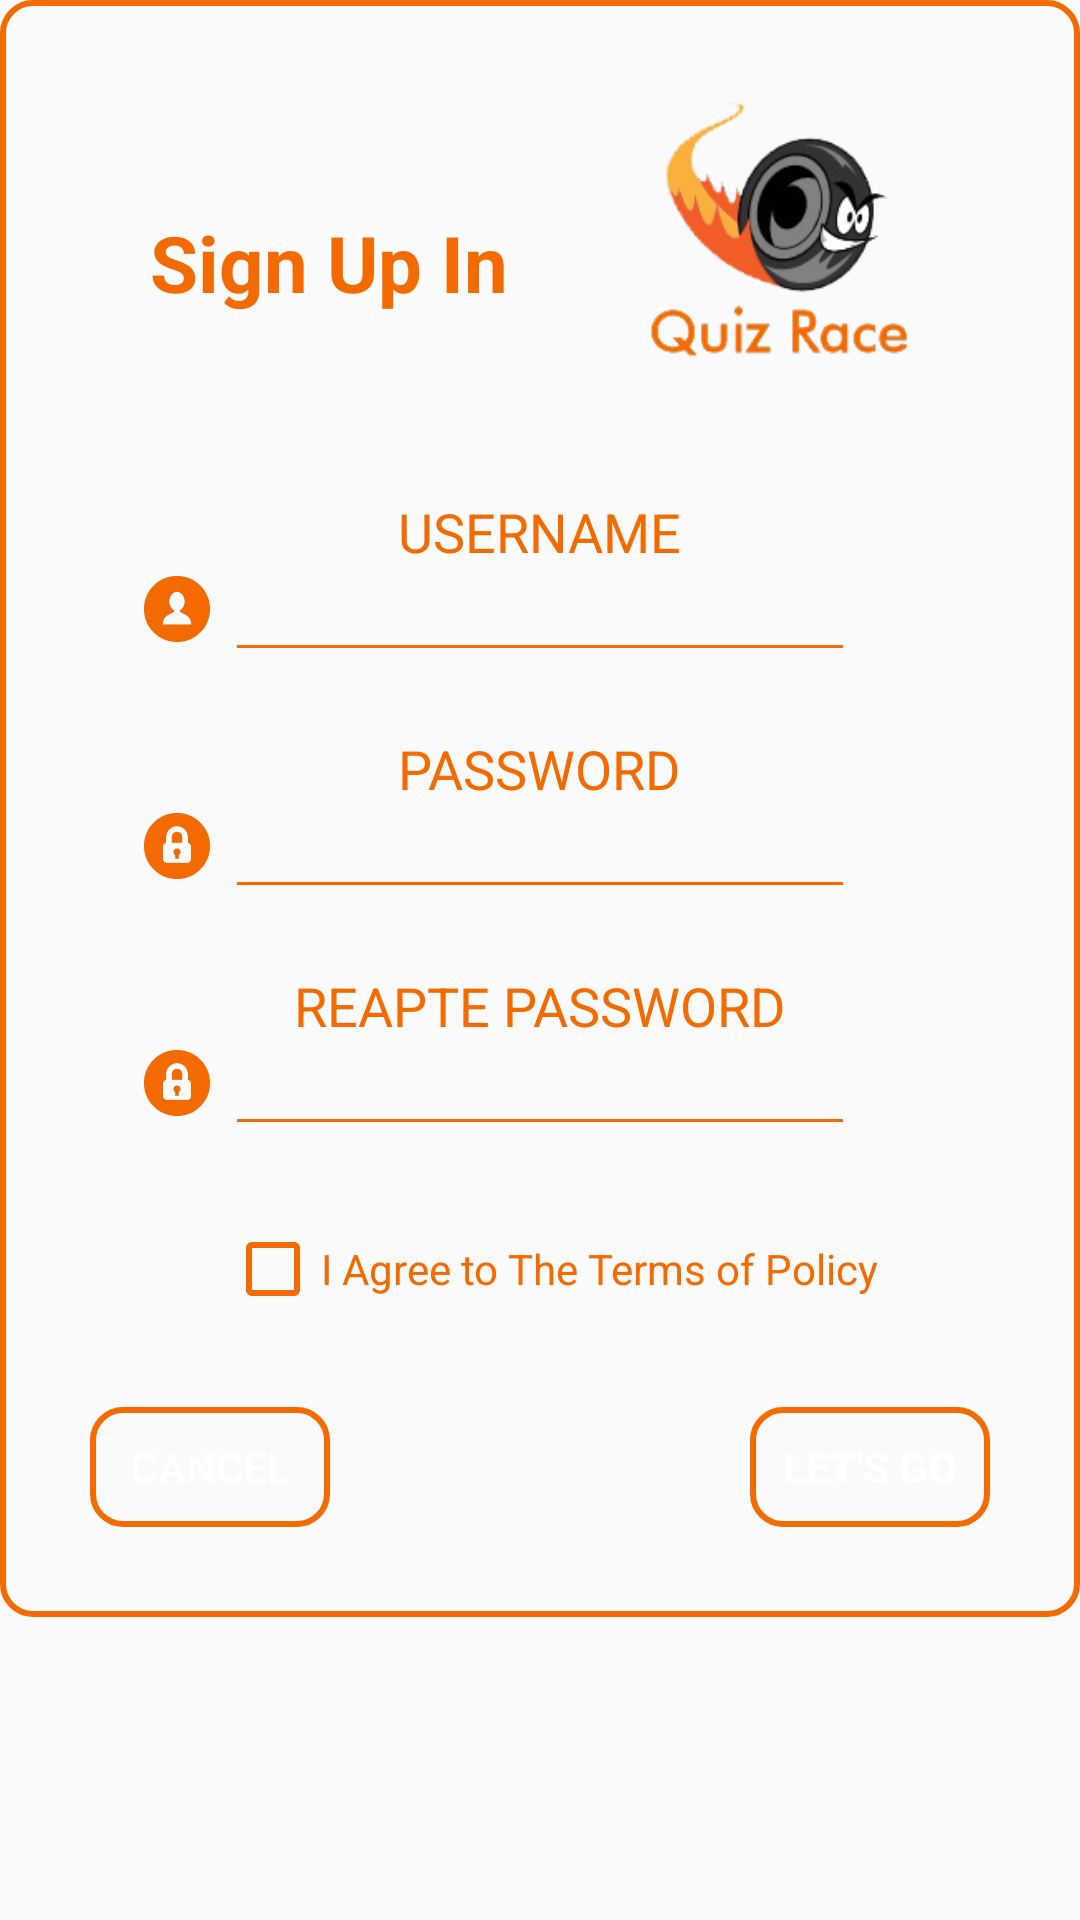

Where to tap for icons on this 1080w x 1920h app screen, as [x,y]:
padlock: [177,846], [177,1083]
user: [177,609]
